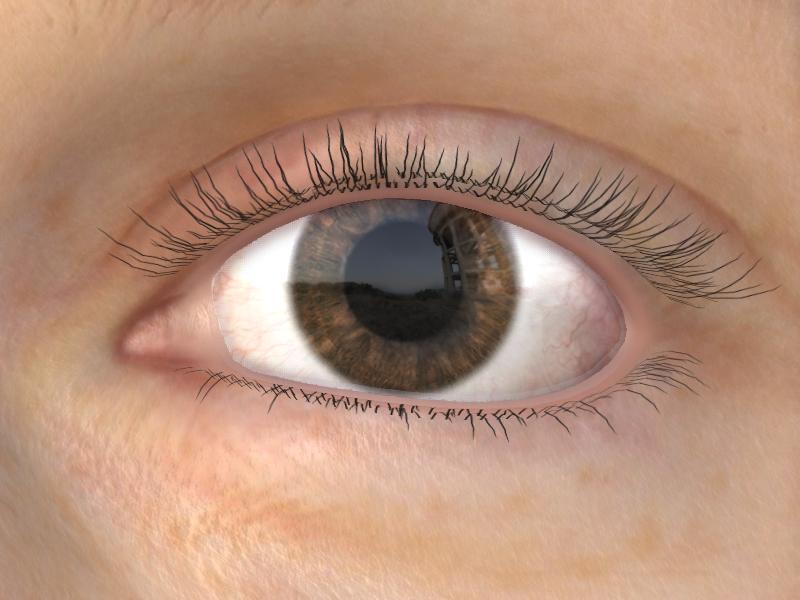eye: (289, 195, 516, 403)
